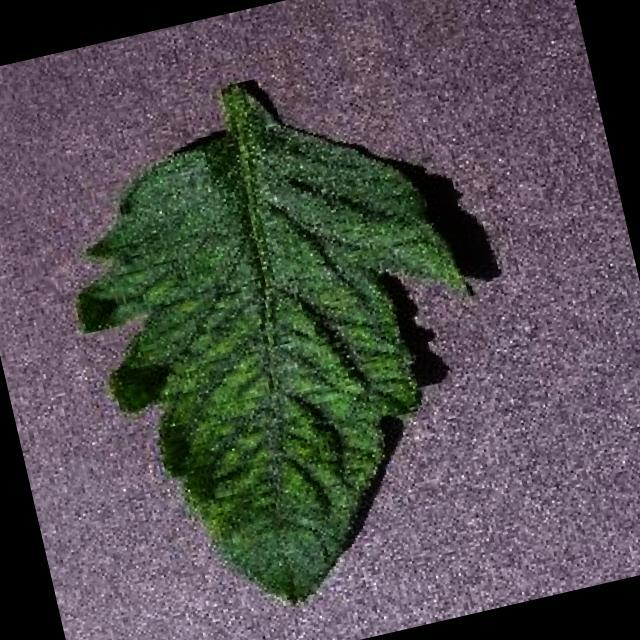Tomato mosaic virus leaf: (37, 80, 534, 640)
